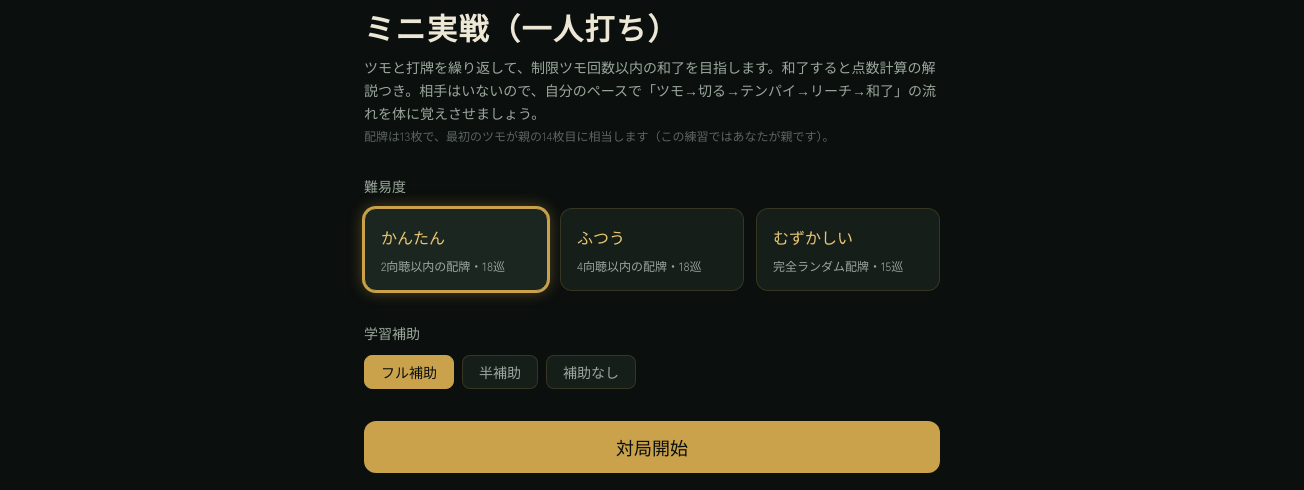
it: PracticePage 対局の流れ › 開始後に自動ツモで14枚になり、2回タップで河に1枚捨てられる
Click the button "対局開始" at [652, 447], box [364,421,940,473]
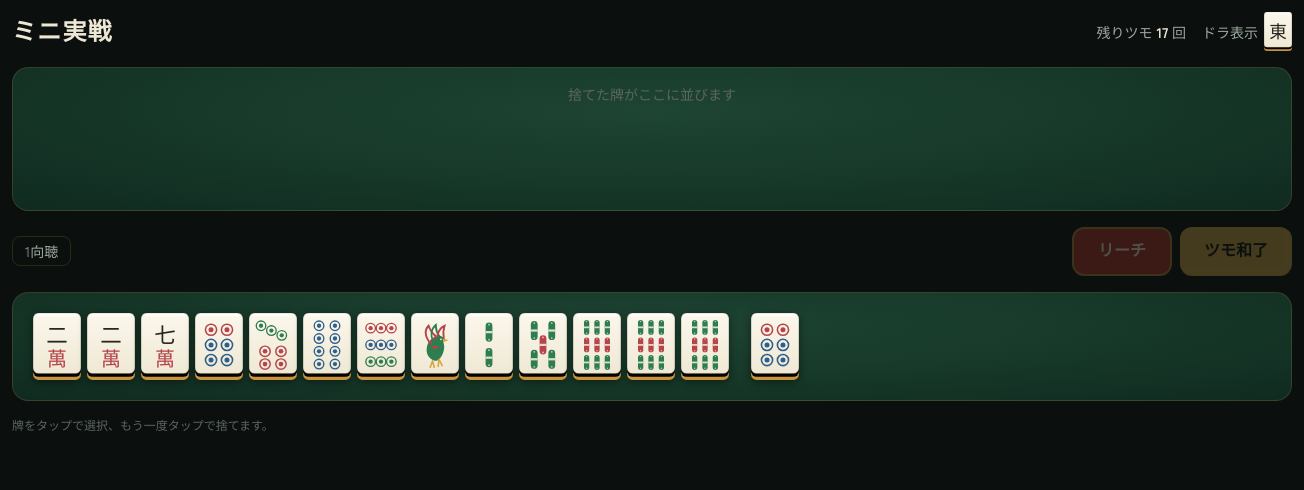
Expected: the number of buttons named "を選ぶ" is 14
Expected: the text "残りツモ 17 回" is shown, [1097,22,1186,42]
Expected: the text "捨てた牌がここに並びます" is shown, [568,84,736,104]
Click the button named "を選ぶ" at [57, 346], box [33,313,81,380]
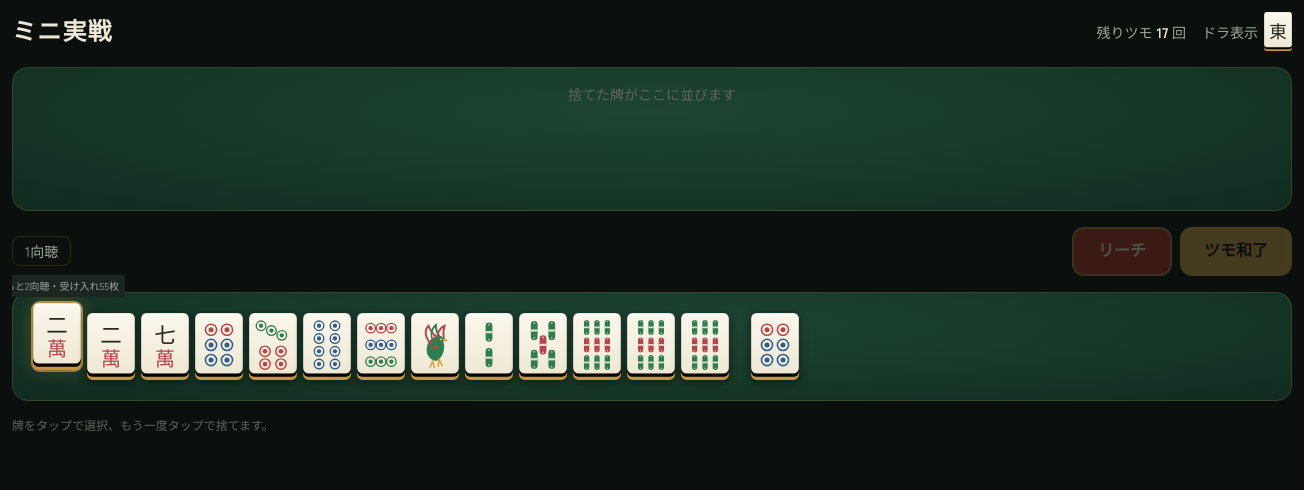
Click the button named "を選ぶ" at [111, 346], box [87,313,135,380]
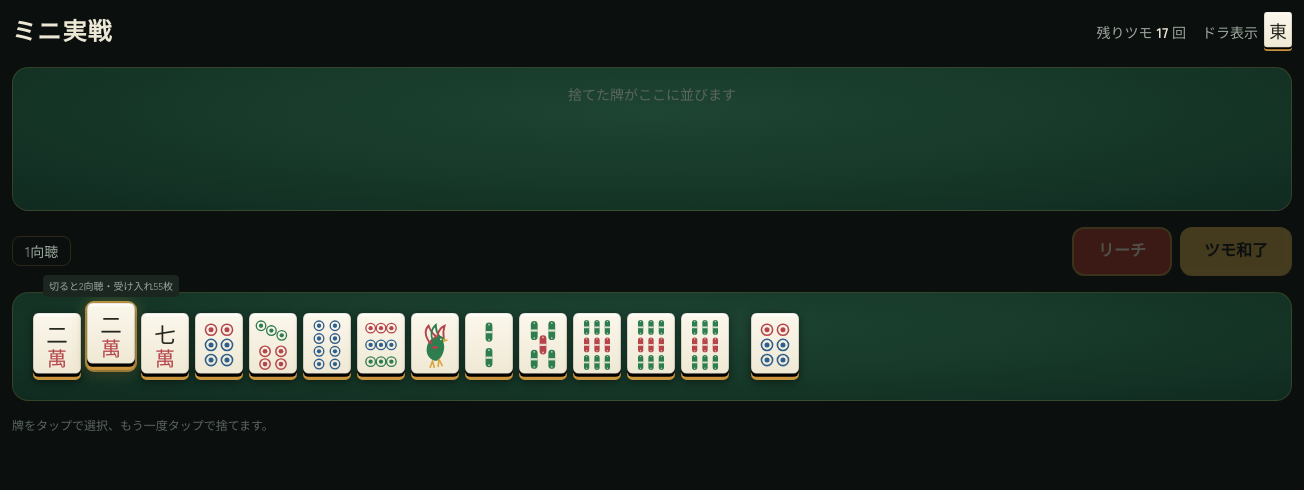
Click the button named "を選ぶ" at [111, 336], box [87,303,135,370]
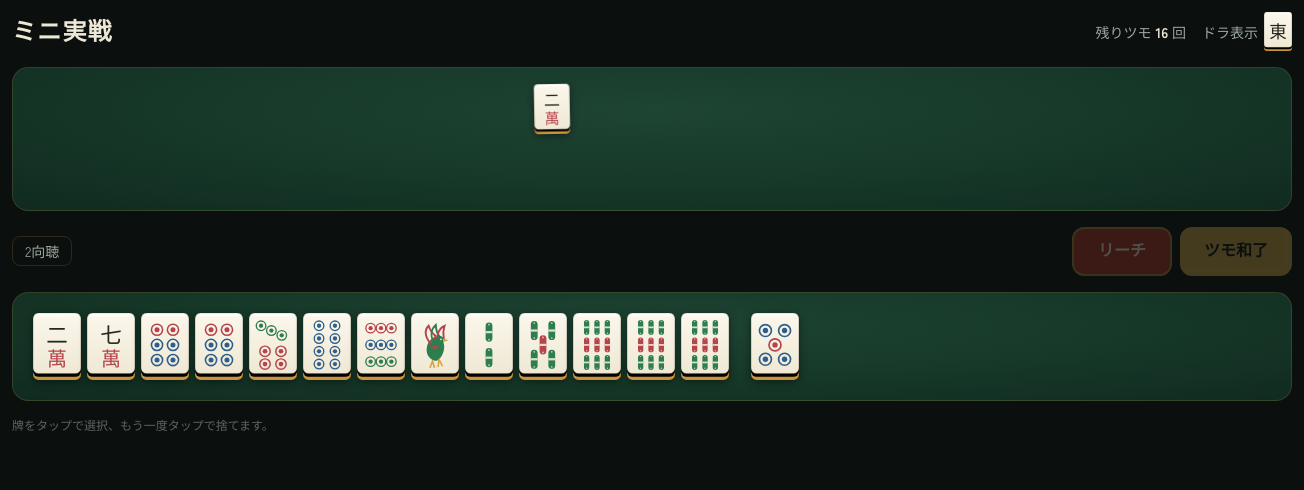
Expected: the number of buttons named "を選ぶ" is 14
Expected: the text "残りツモ 16 回" is shown, [1096,22,1186,42]
